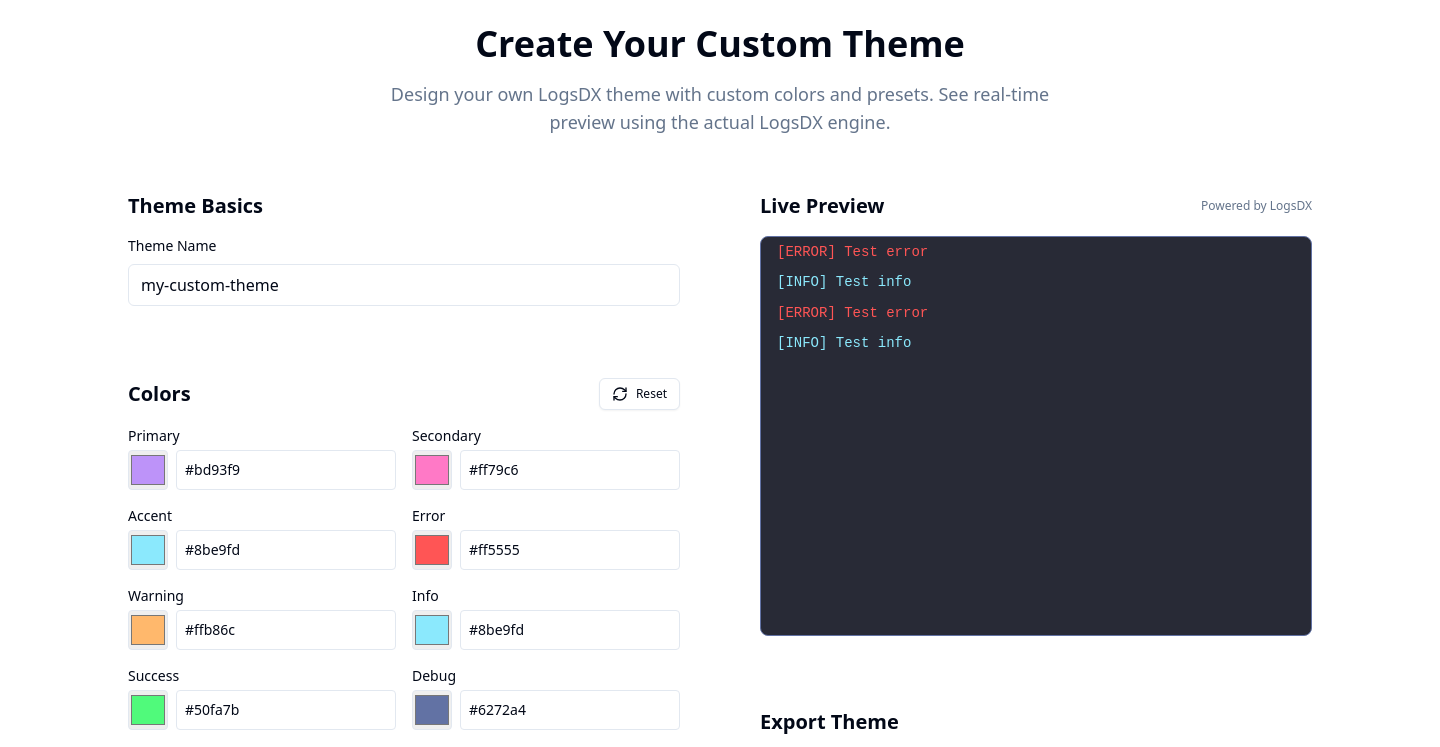
Test: CustomThemeCreator - Integration Tests › allows editing theme name
Replace the text in the field with placeholder "my-awesome-theme" below "Theme Name" with "Custom Theme" at {"x": 404, "y": 285}, box [128,264,680,306]
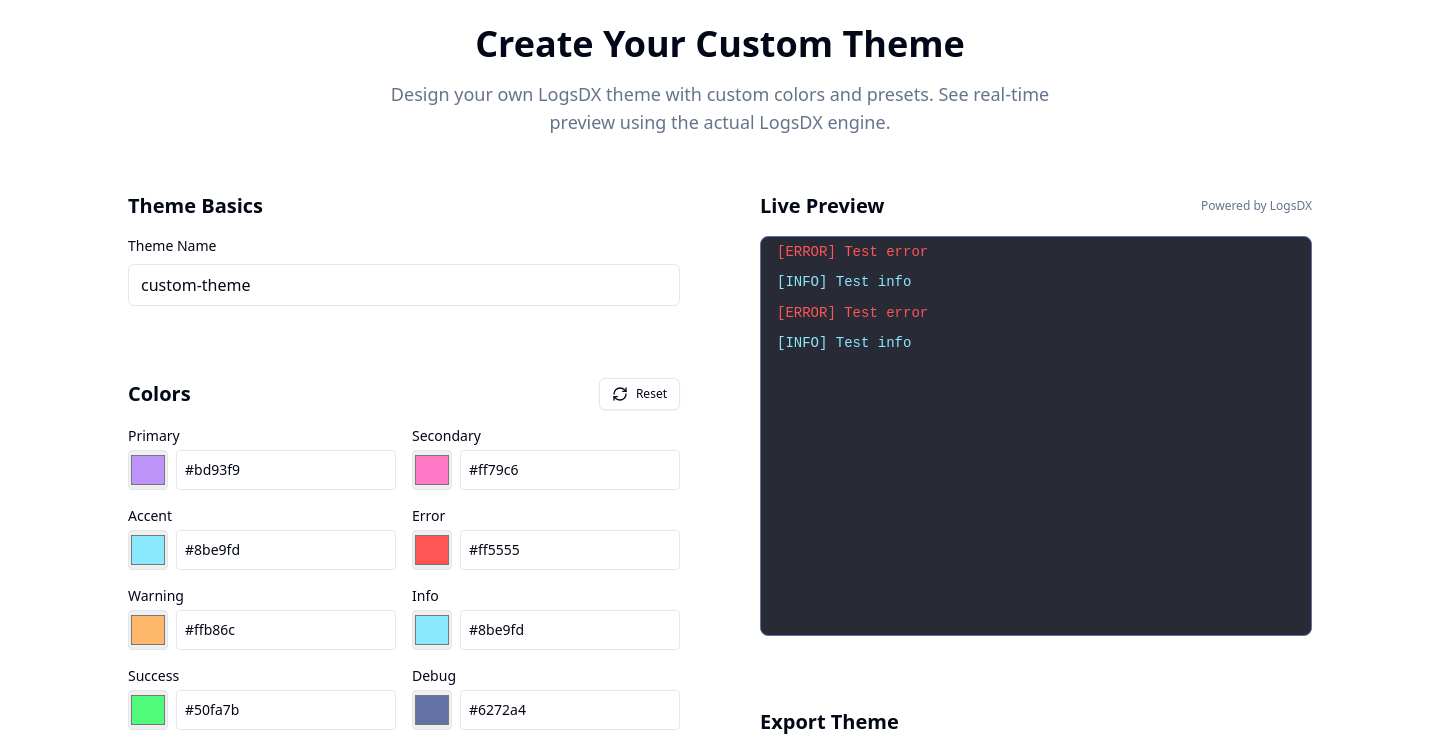
Check: the field with placeholder "my-awesome-theme" below "Theme Name" holds "custom-theme", box [128,264,680,306]
